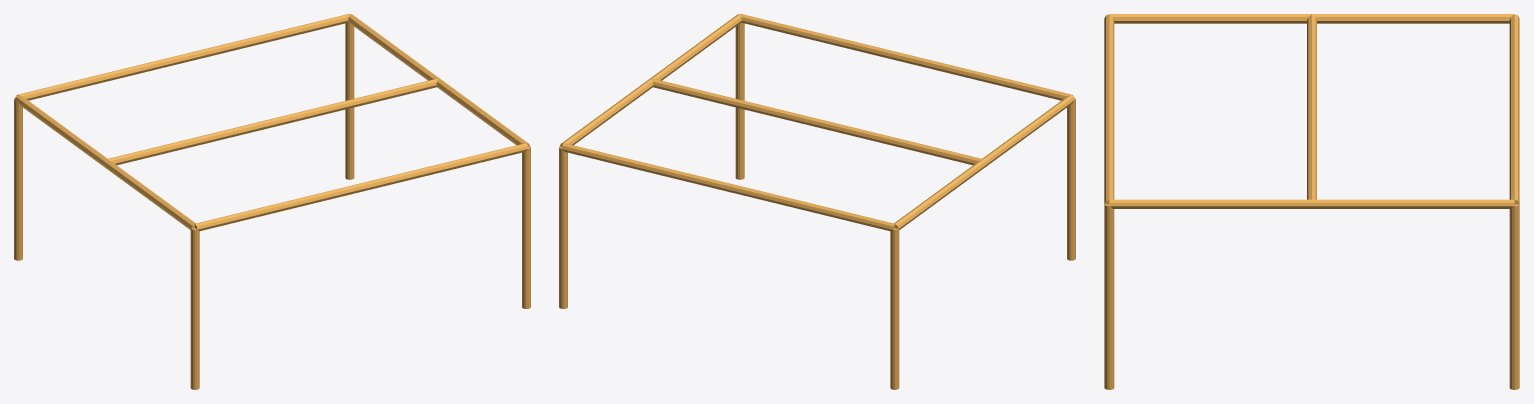
The model's file is american-football-stadium-kit-agility-chute-fecff344.glb.
3 views of the same model, side by side, from view 1: azimuth 30°, elevation 25°; view 2: azimuth 150°, elevation 25°; view 3: azimuth 270°, elevation 25° (orthographic). The views are drawn at different scales.
Visible parts, largest first — view 1: agility-chute; view 2: agility-chute; view 3: agility-chute.
Part boxes in pixels (x1=…): agility-chute: x1=14, y1=14, x2=530, y2=389; agility-chute: x1=559, y1=14, x2=1075, y2=389; agility-chute: x1=1104, y1=14, x2=1519, y2=389.
Size of the model in its own units: 2.66 by 1.23 by 2.46.
